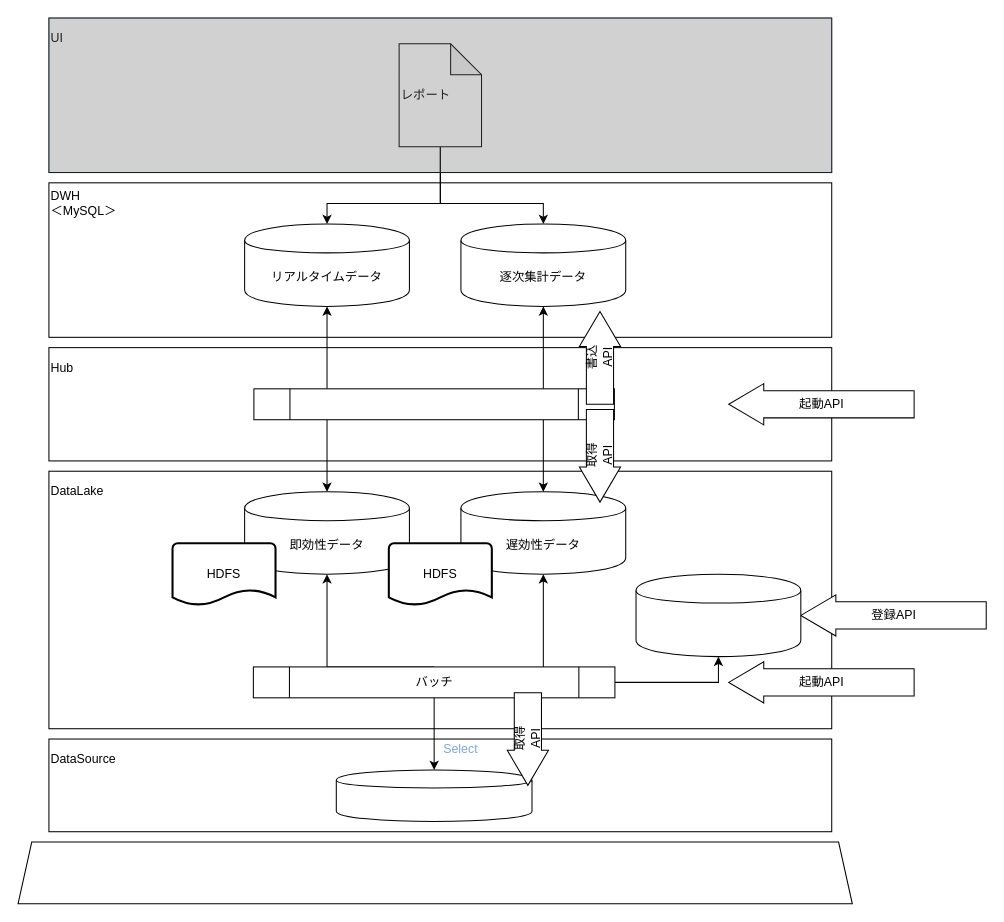
Image size: 1004x922. Some labels were removed from this diagram. Each missing label, with the centre of its shape:
Docker: (x=434, y=872)
Spark / Hadoop: (x=433, y=404)
外部DB: (x=433, y=795)
接続情報管理: (x=718, y=615)
